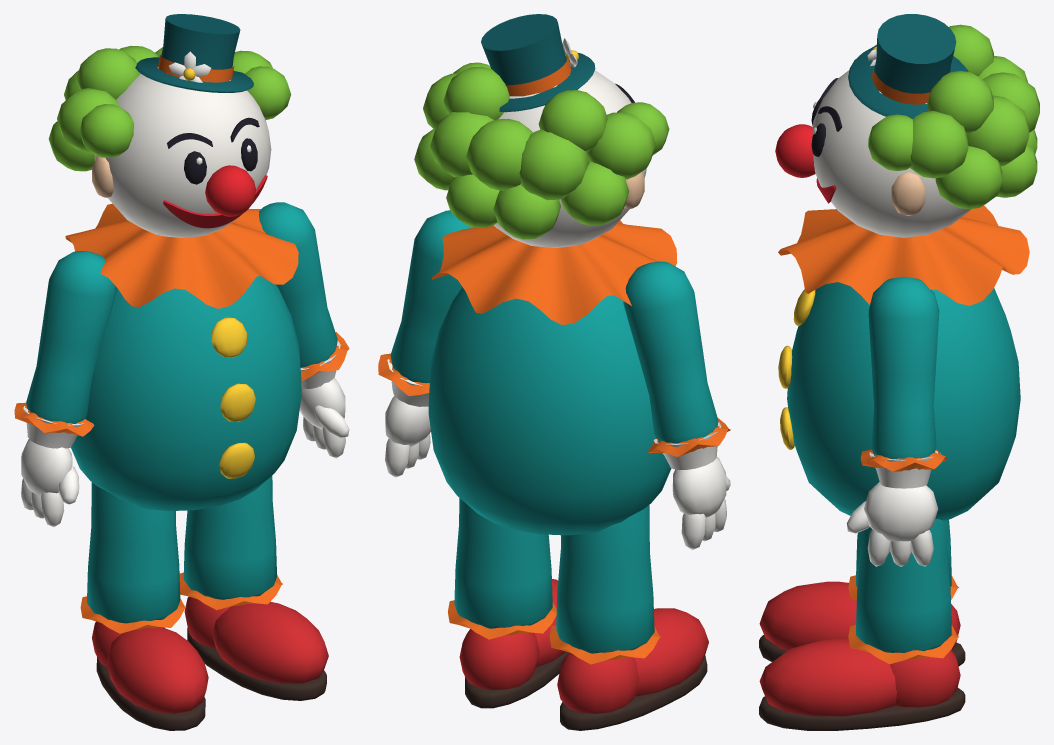
The model's file is clown.glb.
3 views of the same model, side by side, from view 1: azimuth 30°, elevation 25°; view 2: azimuth 150°, elevation 25°; view 3: azimuth 270°, elevation 25° (orthographic). The views are drawn at different scales.
Visible parts, largest first — view 1: Body, Head, Leg_R, Leg_L, Arm_R, Arm_L; view 2: Body, Head, Leg_R, Leg_L, Arm_R, Arm_L; view 3: Body, Head, Leg_L, Arm_L, Leg_R.
Boxes of the visible parts, bbox=[...] form: Body: bbox=[65, 203, 301, 510]; Head: bbox=[48, 14, 291, 237]; Leg_R: bbox=[80, 482, 208, 730]; Leg_L: bbox=[179, 475, 328, 700]; Arm_R: bbox=[14, 251, 116, 527]; Arm_L: bbox=[259, 202, 349, 458]; Body: bbox=[428, 220, 677, 535]; Head: bbox=[414, 14, 669, 247]; Leg_R: bbox=[549, 505, 708, 730]; Leg_L: bbox=[448, 498, 568, 708]; Arm_R: bbox=[623, 261, 730, 550]; Arm_L: bbox=[378, 210, 473, 477]; Body: bbox=[778, 205, 1029, 520]; Head: bbox=[775, 14, 1039, 237]; Leg_L: bbox=[759, 519, 965, 730]; Arm_L: bbox=[846, 276, 946, 566]; Leg_R: bbox=[759, 519, 965, 666].
Bounding box in the file's own units: 0.6694 × 1.26 × 0.4801.
